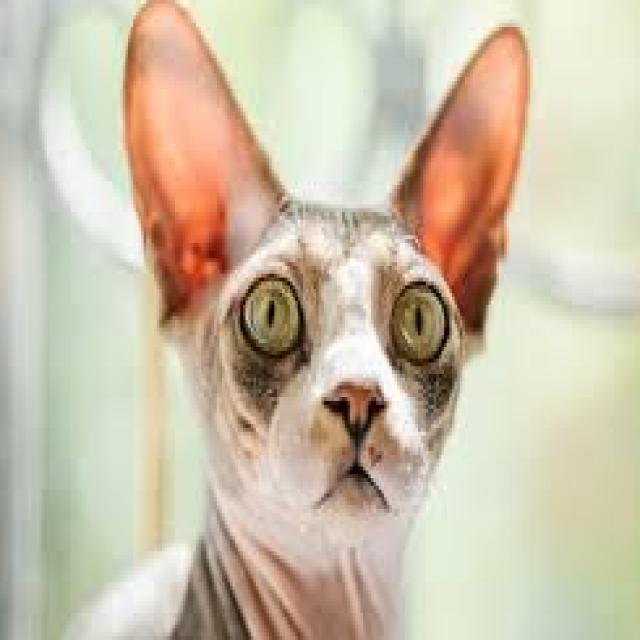Sphynx: (47, 0, 536, 640)
